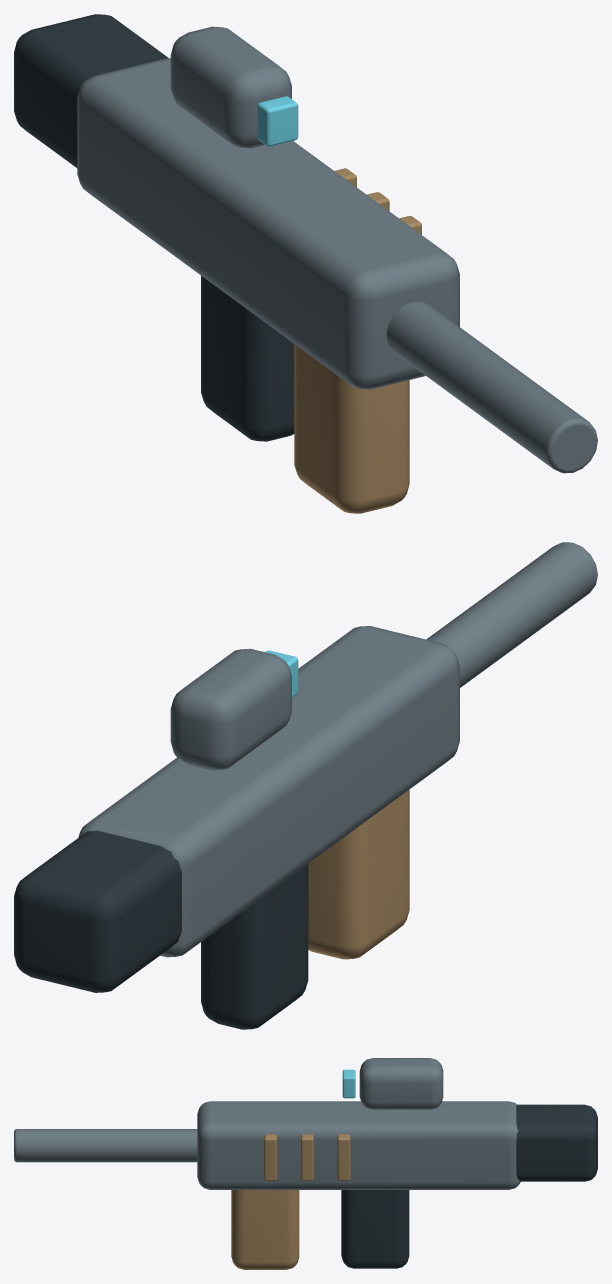
File: rifle.fbx
3 renders of one model, top to bottom at view 1: azimuth 30°, elevation 25°; view 2: azimuth 150°, elevation 25°; view 3: azimuth 270°, elevation 25°, orthographic. The views are drawn at different scales.
Visible parts, largest first — view 1: rifle; view 2: rifle; view 3: rifle.
Part boxes in pixels (x1,y1,x2,y2): rifle: (14,14,597,513); rifle: (14,542,597,1029); rifle: (14,1058,597,1269).
Bounding box in the file's own units: 15.75 × 112 × 42.5.
